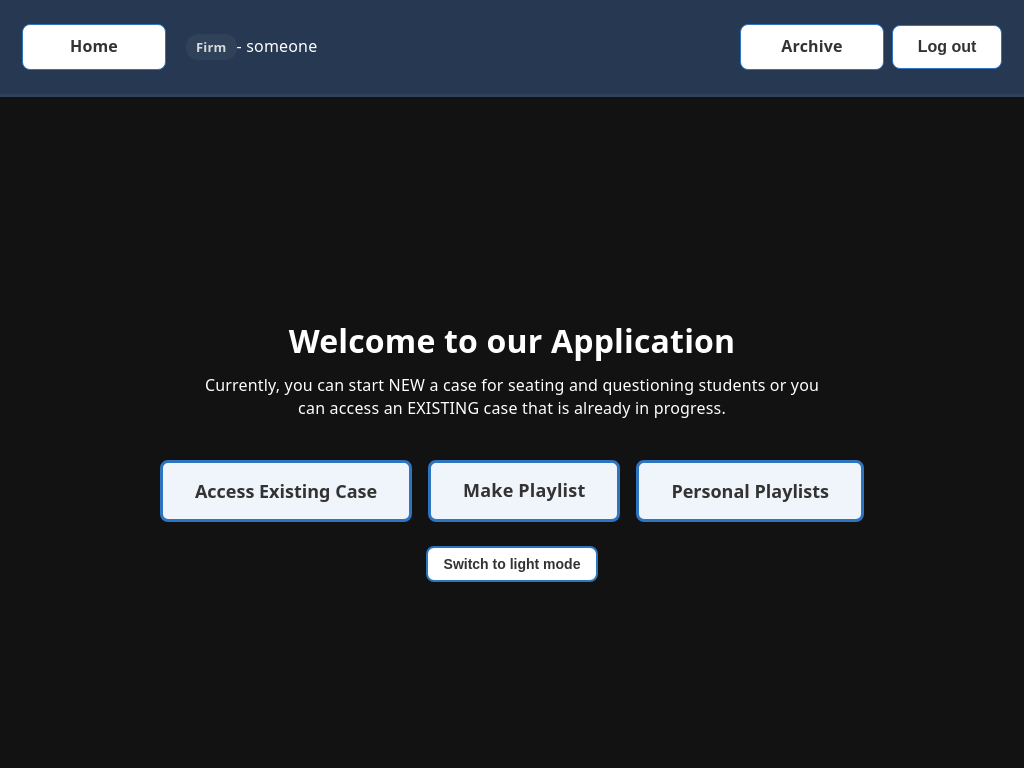
Test: DashboardScreen keyboard access (spec 011) › shows the empty state instead of a list when there are no cases
Click the button "Access Existing Case" at (286, 491), box [160,460,412,522]
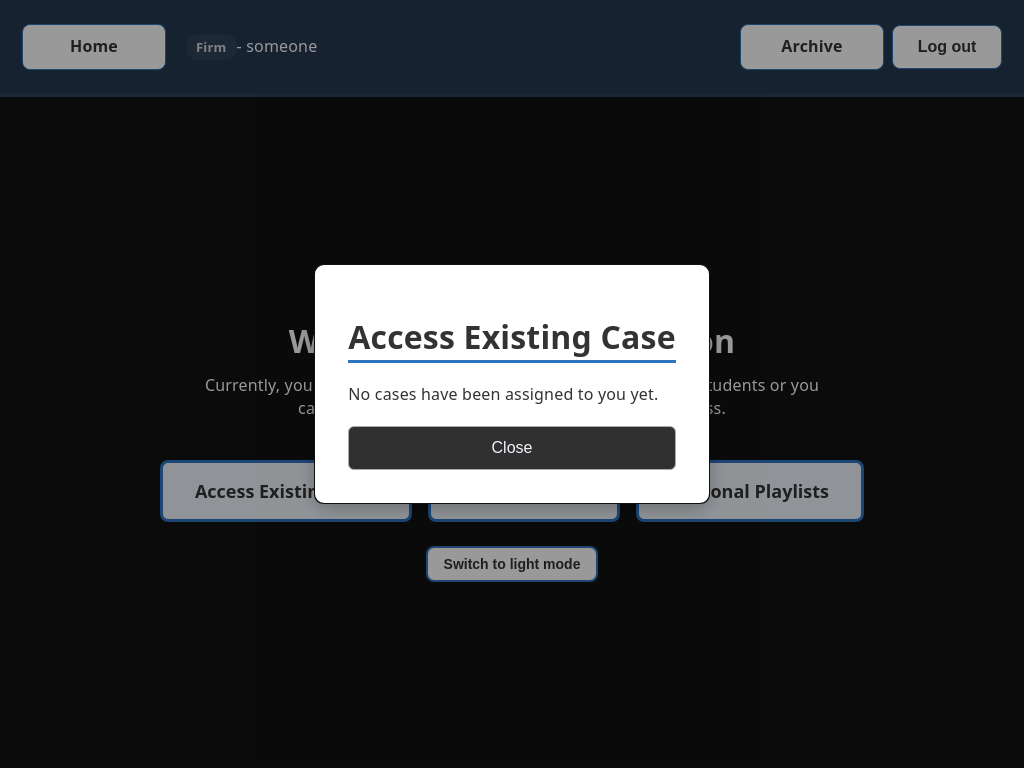
Expected: the text "No cases have been assigned to you yet." is shown, [348,383,676,406]
